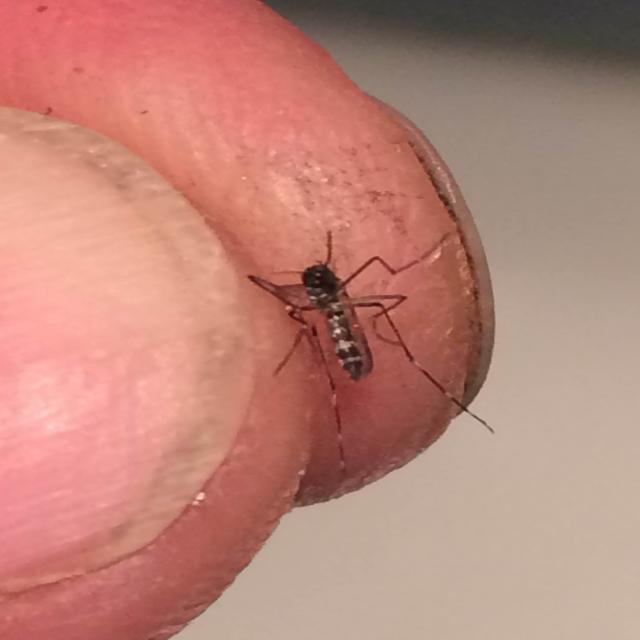albopictus: (228, 215, 488, 461)
